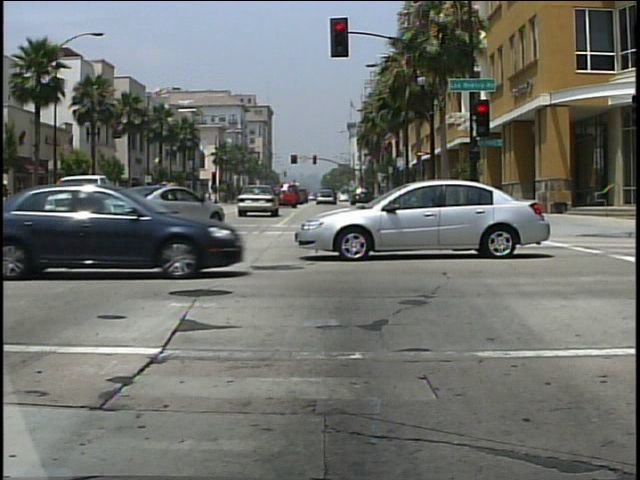person: (1, 178, 25, 231)
